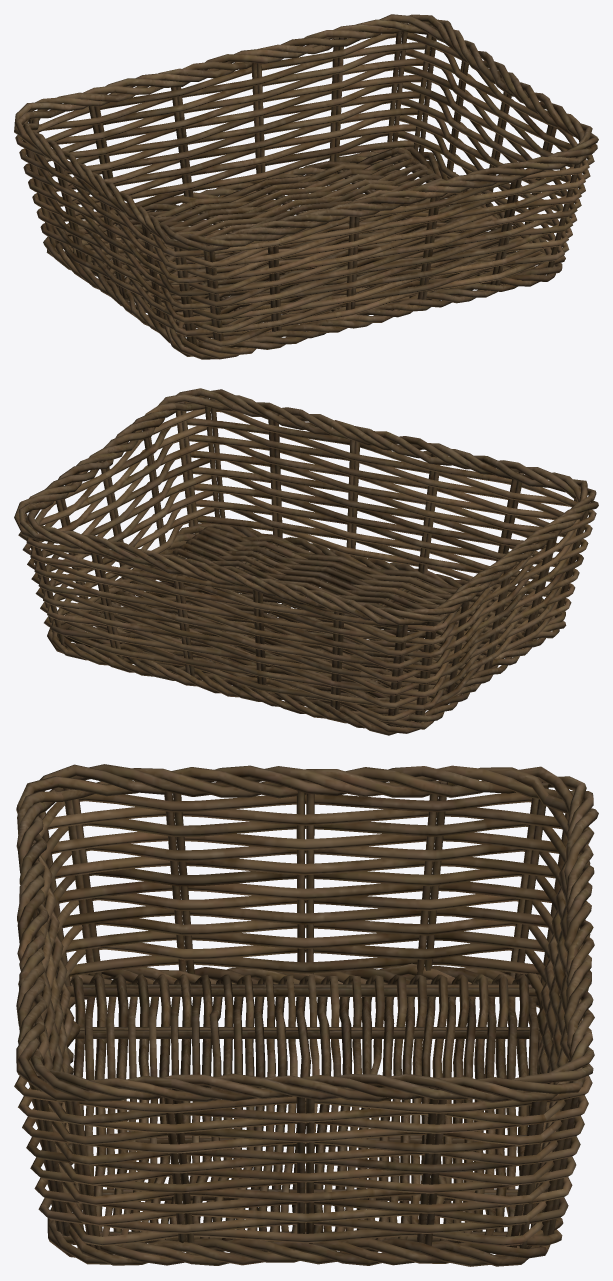
Rendered from ph-wicker-tray.glb.
The picture shows the model from 3 angles, top to bottom: view 1: azimuth 30°, elevation 25°; view 2: azimuth 150°, elevation 25°; view 3: azimuth 270°, elevation 25°; orthographic projection. The views are drawn at different scales.
Visible parts, largest first — view 1: wicker_basket_01; view 2: wicker_basket_01; view 3: wicker_basket_01.
Part boxes in pixels (left/top/right/bottom): wicker_basket_01: left=14, top=14, right=598, bottom=359; wicker_basket_01: left=14, top=388, right=598, bottom=735; wicker_basket_01: left=14, top=764, right=598, bottom=1266.
Bounding box in the file's own units: 0.3832 × 0.1174 × 0.295.
Materials: 1 (1 with a texture image).
